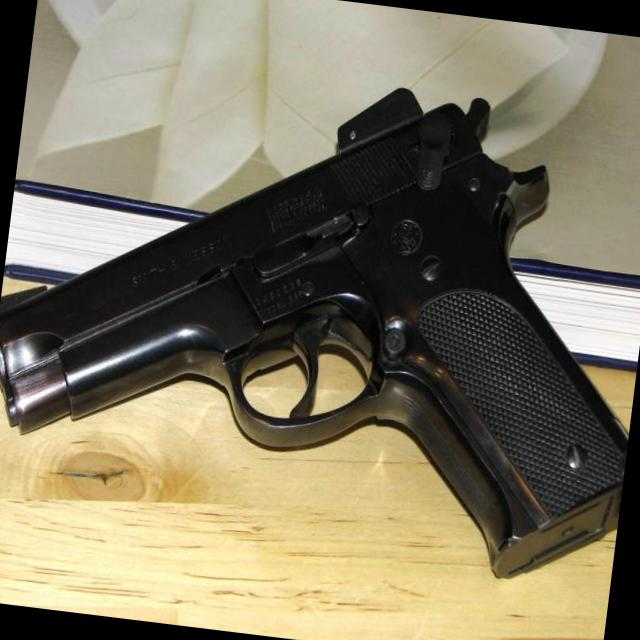Gun: (0, 90, 628, 575)
